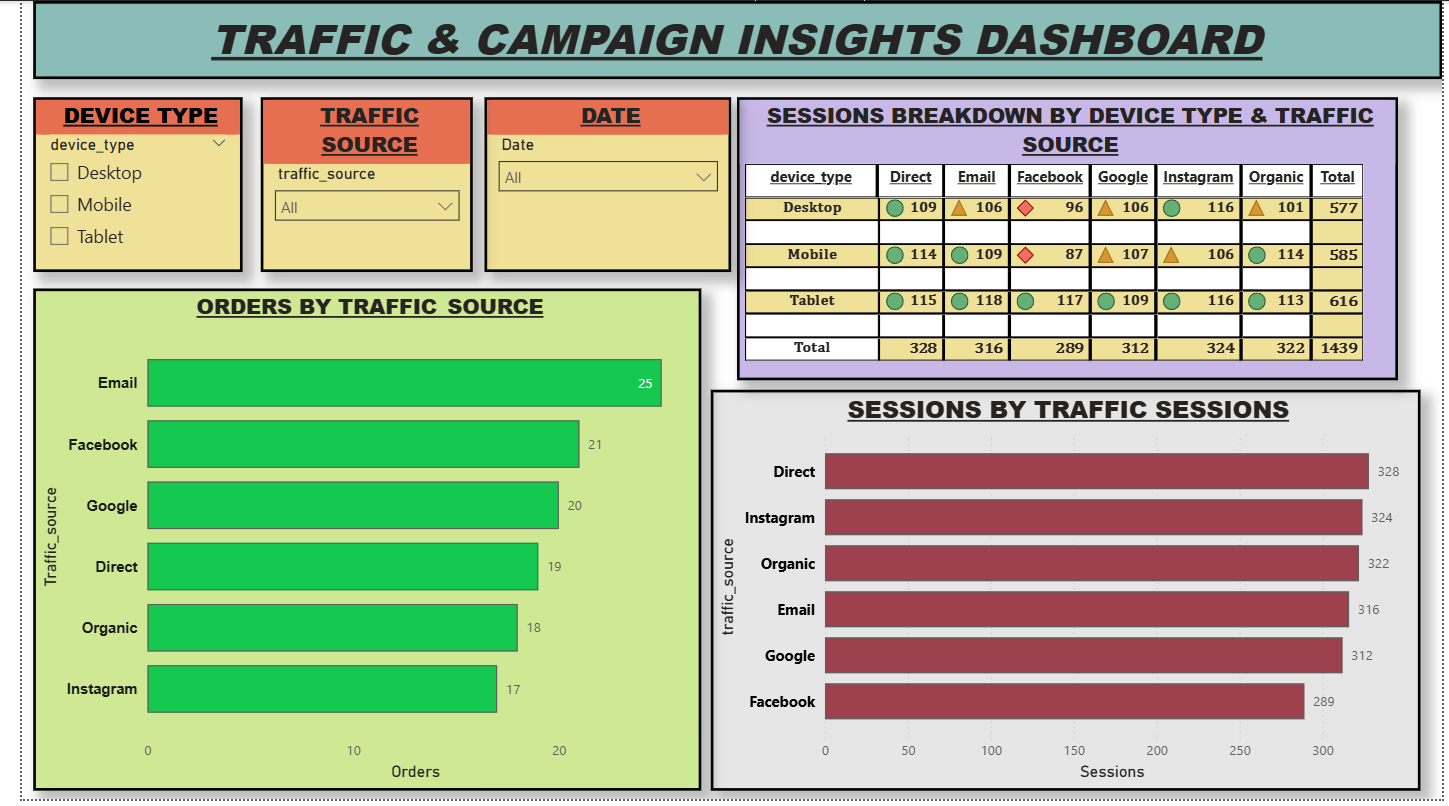

The page's visual inventory and layout, read from the dashboard file:
{"tool":"powerbi","page":{"name":"Traffic & Campaign Insights Dashboard","canvas":[1280,720],"ordinal":1},"visuals":[{"type":"textbox","box":[10,0,1270,70],"z":0},{"type":"clusteredBarChart","title":"SESSIONS BY TRAFFIC SESSIONS","fields":{"Category":["Traffic_Source.traffic_source"],"Y":["clickstream_dataset.Sessions"]},"box":[621.2,350,640,361.2],"z":1000},{"type":"clusteredBarChart","title":"ORDERS BY TRAFFIC_SOURCE","fields":{"Category":["Traffic_Source.traffic_source"],"Y":["clickstream_dataset.Orders"]},"box":[10,258.8,602.5,452.5],"z":2000},{"type":"pivotTable","title":"SESSIONS BREAKDOWN BY DEVICE TYPE & TRAFFIC SOURCE","fields":{"Rows":["Device.device_type"],"Columns":["Traffic_Source.traffic_source"],"Values":["clickstream_dataset.Sessions"]},"box":[645,86.2,596.2,255],"z":3000},{"type":"slicer","title":"DATE","fields":{"Values":["Calendar.Date"]},"box":[417.5,86.2,222.5,157.5],"z":4000},{"type":"slicer","title":"DEVICE TYPE","fields":{"Values":["Device.device_type"]},"box":[10,86.2,188.8,157.5],"z":5000},{"type":"slicer","title":"TRAFFIC SOURCE","fields":{"Values":["Traffic_Source.traffic_source"]},"box":[215,86.2,191.2,157.5],"z":6000}]}

Visuals, with their boxes in screenshot pixels (x1, y1, x2, y2), scaled from the page's 1280x720 canvas onto the 1449x806 screenshot:
textbox: (11,0,1448,78)
"SESSIONS BY TRAFFIC SESSIONS" clusteredBarChart: (703,392,1428,796)
"ORDERS BY TRAFFIC_SOURCE" clusteredBarChart: (11,290,693,796)
"SESSIONS BREAKDOWN BY DEVICE TYPE & TRAFFIC SOURCE" pivotTable: (730,96,1405,382)
"DATE" slicer: (473,96,724,273)
"DEVICE TYPE" slicer: (11,96,225,273)
"TRAFFIC SOURCE" slicer: (243,96,460,273)
